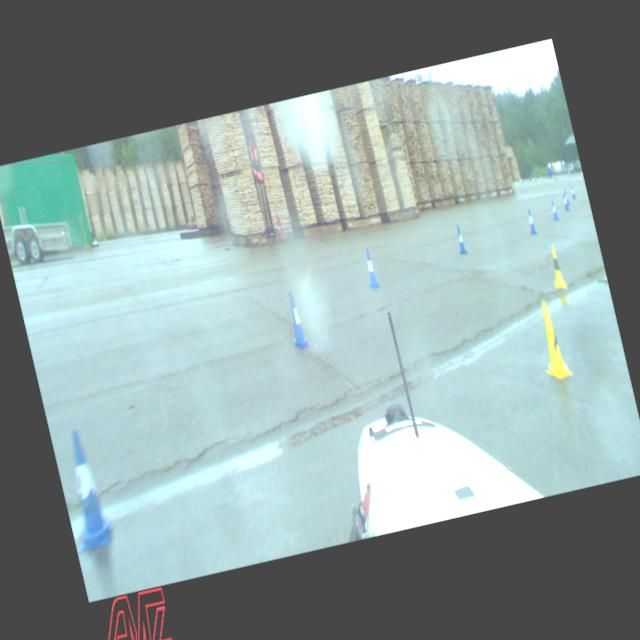blue_cone: (52, 425, 119, 552), (281, 289, 311, 350), (360, 247, 381, 289), (452, 223, 468, 255), (524, 208, 538, 235), (548, 198, 559, 221), (561, 193, 569, 211), (564, 190, 571, 206), (569, 185, 576, 199)
yellow_cone: (530, 298, 573, 381), (545, 243, 567, 291)
